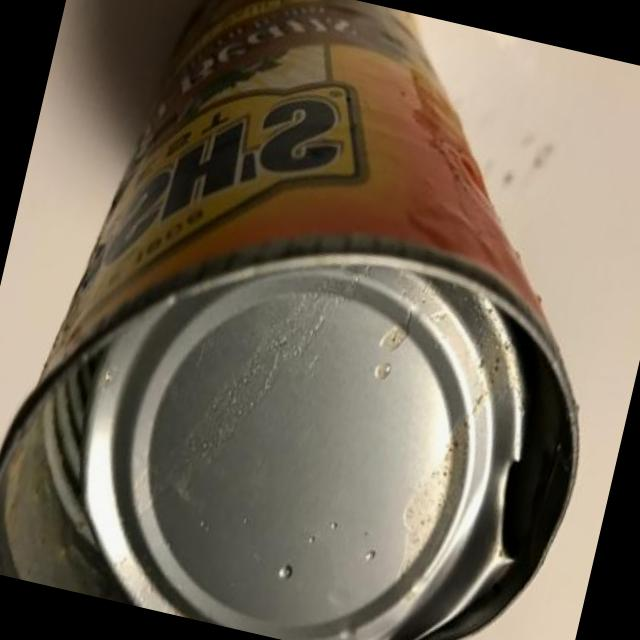kim_loai: (0, 0, 581, 640)
